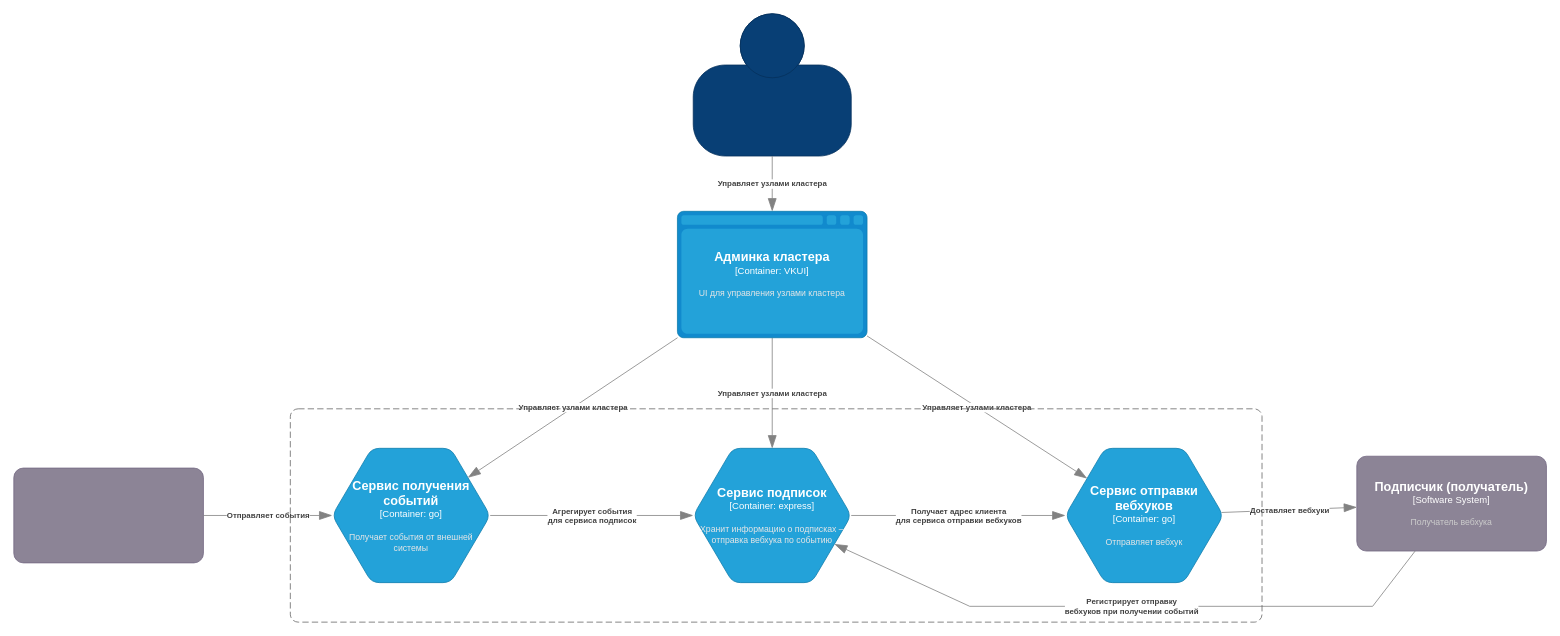
The diagram is 1560 pixels wide and 636 high, and some of its shapes have lost their labels. Here are the shapes that lost their labels. From the top down, the box of each, then its label:
(692, 13, 851, 156): Админ [Person] Управляет узлами кластера
(13, 467, 203, 563): Продьюсер (отправитель) [Software System] Система, отправляющая события
(290, 408, 1262, 622): WebHook Delivery Engine [Software System]
